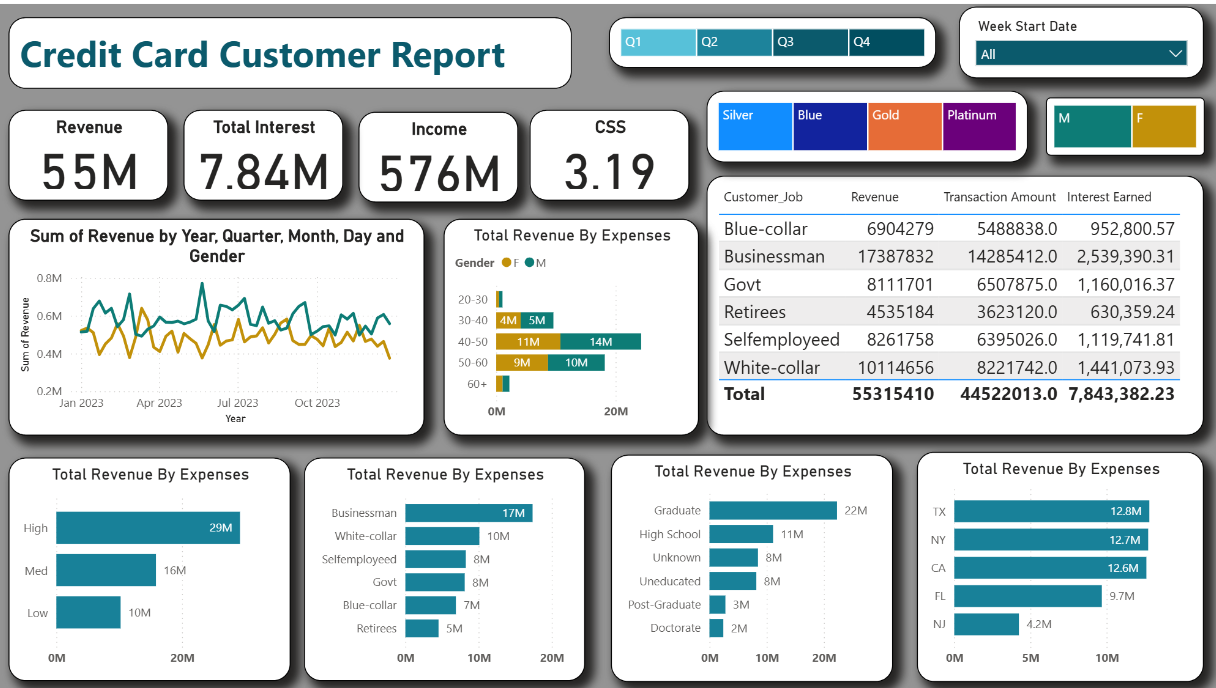

Layout of this report page (visuals, bound fields, positions):
{"tool":"powerbi","page":{"name":"CC_Customer_details","canvas":[1280,720],"ordinal":1},"visuals":[{"type":"textbox","box":[10.9,14.1,589.2,75],"z":0},{"type":"tableEx","fields":{"Values":["customer.Customer_Job","Sum(credit_card.Revenue)","Sum(credit_card.Total_Trans_Amt)","Sum(credit_card.Interest_Earned)"]},"box":[740.9,179.7,520.5,272],"z":1000},{"type":"card","title":"Revenue","fields":{"Values":["Sum(credit_card.Revenue)"]},"box":[10.9,111,167.2,95.3],"z":2000},{"type":"card","title":"Income","fields":{"Values":["Sum(customer.Income)"]},"box":[376.7,112.5,167.2,95.3],"z":3000},{"type":"card","title":"Total Interest","fields":{"Values":["Sum(credit_card.Interest_Earned)"]},"box":[193.8,111,167.2,95.3],"z":4000},{"type":"card","title":"CSS","fields":{"Values":["Avg(customer.Cust_Satisfaction_Score)"]},"box":[556.4,111,167.2,95.3],"z":5000},{"type":"treemap","fields":{"Group":["credit_card.Qtr"],"Values":["Min(credit_card.Credit_Limit)"]},"box":[639.3,14.1,342.3,53.1],"z":6000},{"type":"lineChart","fields":{"Y":["Sum(credit_card.Revenue)"],"Series":["customer.Gender"],"Category":["credit_card.Week_Start_Date.Variation.Date Hierarchy.Year","credit_card.Week_Start_Date.Variation.Date Hierarchy.Quarter","credit_card.Week_Start_Date.Variation.Date Hierarchy.Month","credit_card.Week_Start_Date.Variation.Date Hierarchy.Day"]},"box":[10.9,225.1,434.5,226.6],"z":7000},{"type":"treemap","fields":{"Group":["customer.Gender"],"Values":["Sum(credit_card.Revenue)"]},"box":[1095.7,98.5,165.7,61],"z":8000},{"type":"barChart","title":"Total Revenue By Expenses","fields":{"Category":["customer.IncomeGroup"],"Y":["Sum(credit_card.Revenue)"]},"box":[10.9,475.1,295.4,234.4],"z":9000},{"type":"barChart","title":"Total Revenue By Expenses","fields":{"Y":["Sum(credit_card.Revenue)"],"Category":["customer.AgeGroup"],"Series":["customer.Gender"]},"box":[465.8,225.1,267.3,226.6],"z":10000},{"type":"barChart","title":"Total Revenue By Expenses","fields":{"Y":["Sum(credit_card.Revenue)"],"Category":["customer.Customer_Job"]},"box":[320.4,475.1,293.8,234.4],"z":11000},{"type":"barChart","title":"Total Revenue By Expenses","fields":{"Y":["Sum(credit_card.Revenue)"],"Category":["customer.Education_Level"]},"box":[640.8,472,295.4,237.6],"z":12000},{"type":"slicer","fields":{"Values":["credit_card.Week_Start_Date"]},"box":[1005,3.1,256.3,75],"z":13000},{"type":"treemap","fields":{"Group":["credit_card.Card_Category"],"Values":["Avg(credit_card.Client_Num)"]},"box":[740.9,90.7,336,75],"z":14000},{"type":"barChart","title":"Total Revenue By Expenses","fields":{"Y":["Sum(credit_card.Revenue)"],"Category":["customer.state_cd"]},"box":[961.2,468.9,300.1,240.7],"z":15000}]}

Visuals, with their boxes in screenshot pixels (x1, y1, x2, y2), scaled from the page's 1280x720 canvas onto the 1216x688 screenshot:
textbox: pyautogui.locateOnScreen(10, 13, 570, 85)
tableEx - customer.Customer_Job x Sum(credit_card.Revenue): pyautogui.locateOnScreen(704, 172, 1198, 432)
"Revenue" card: pyautogui.locateOnScreen(10, 106, 169, 197)
"Income" card: pyautogui.locateOnScreen(358, 108, 517, 199)
"Total Interest" card: pyautogui.locateOnScreen(184, 106, 343, 197)
"CSS" card: pyautogui.locateOnScreen(529, 106, 687, 197)
treemap - credit_card.Qtr x Min(credit_card.Credit_Limit): pyautogui.locateOnScreen(607, 13, 933, 64)
lineChart - Sum(credit_card.Revenue) x customer.Gender: pyautogui.locateOnScreen(10, 215, 423, 432)
treemap - customer.Gender x Sum(credit_card.Revenue): pyautogui.locateOnScreen(1041, 94, 1198, 152)
"Total Revenue By Expenses" barChart: pyautogui.locateOnScreen(10, 454, 291, 678)
"Total Revenue By Expenses" barChart: pyautogui.locateOnScreen(443, 215, 696, 432)
"Total Revenue By Expenses" barChart: pyautogui.locateOnScreen(304, 454, 583, 678)
"Total Revenue By Expenses" barChart: pyautogui.locateOnScreen(609, 451, 889, 678)
slicer - credit_card.Week_Start_Date: pyautogui.locateOnScreen(955, 3, 1198, 75)
treemap - credit_card.Card_Category x Avg(credit_card.Client_Num): pyautogui.locateOnScreen(704, 87, 1023, 158)
"Total Revenue By Expenses" barChart: pyautogui.locateOnScreen(913, 448, 1198, 678)
